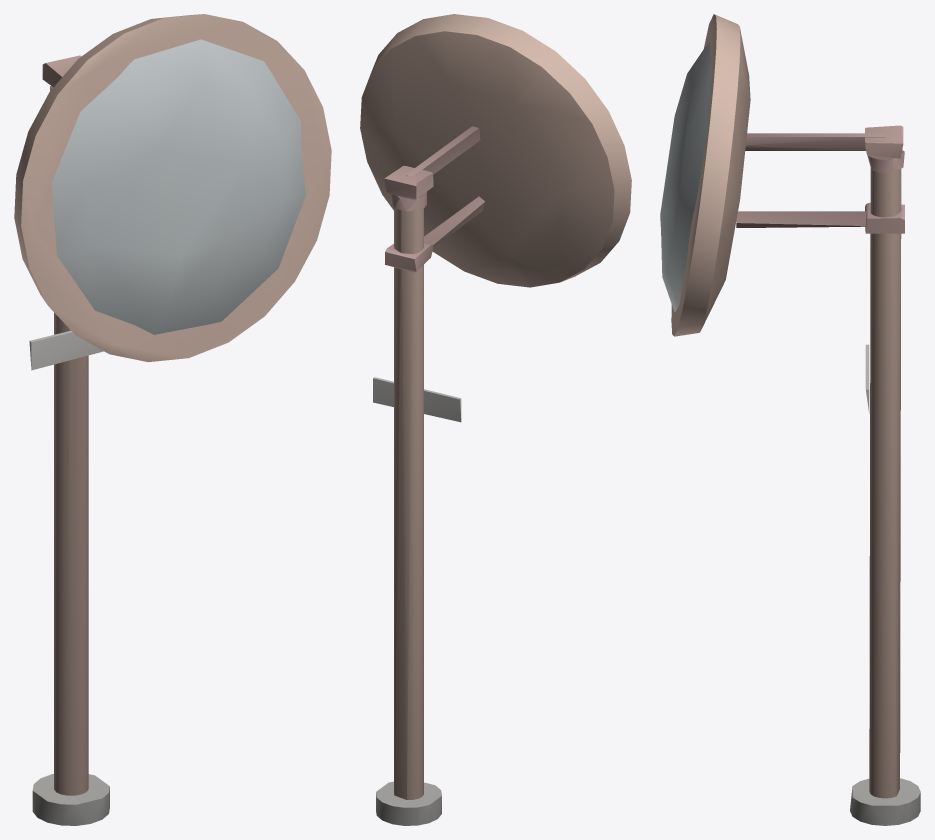
The model's file is mirror.lod1.glb.
The picture shows the model from 3 angles, left to right: view 1: azimuth 30°, elevation 25°; view 2: azimuth 150°, elevation 25°; view 3: azimuth 270°, elevation 25°; orthographic projection. The views are drawn at different scales.
Bounding box in the file's own units: 0.92 × 2.43 × 0.7346.
